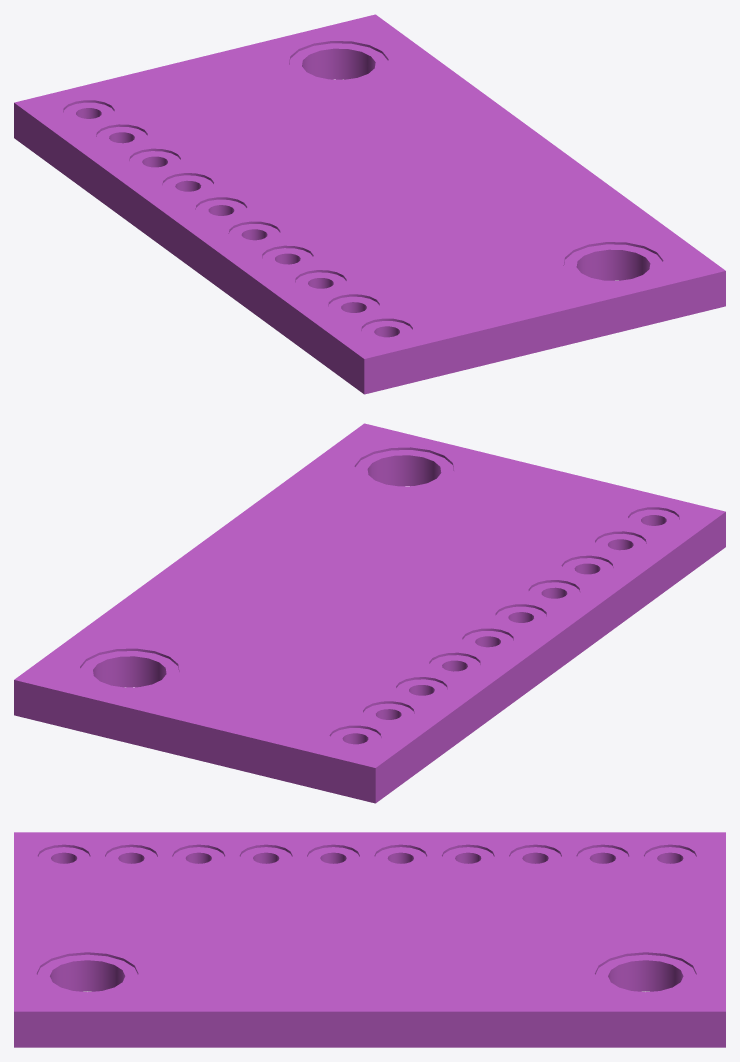
File: IMU_60.gltf
3 renders of one model, top to bottom at view 1: azimuth 30°, elevation 25°; view 2: azimuth 150°, elevation 25°; view 3: azimuth 270°, elevation 25°, orthographic.
Visible parts, largest first — view 1: mesh8132, mesh8080, mesh8081, mesh8084, mesh8119, mesh8120, mesh8085; view 2: mesh8132, mesh8078, mesh8081, mesh8084, mesh8119, mesh8120, mesh8085; view 3: mesh8132, mesh8079, mesh8084, mesh8119, mesh8120, mesh8085, mesh8095, mesh8134, mesh8115, mesh8130, mesh8074, mesh8090 (+4 smaller).
Boxes of the visible parts, x1=… form: mesh8132: x1=14, y1=14, x2=725, y2=358; mesh8080: x1=364, y1=271, x2=725, y2=394; mesh8081: x1=14, y1=103, x2=364, y2=393; mesh8084: x1=302, y1=48, x2=375, y2=79; mesh8119: x1=576, y1=249, x2=650, y2=280; mesh8120: x1=564, y1=244, x2=662, y2=283; mesh8085: x1=289, y1=43, x2=388, y2=82; mesh8132: x1=14, y1=423, x2=725, y2=767; mesh8078: x1=14, y1=680, x2=375, y2=803; mesh8081: x1=375, y1=512, x2=725, y2=802; mesh8084: x1=93, y1=656, x2=166, y2=687; mesh8119: x1=367, y1=455, x2=441, y2=486; mesh8120: x1=355, y1=450, x2=453, y2=489; mesh8085: x1=80, y1=651, x2=179, y2=690; mesh8132: x1=14, y1=832, x2=725, y2=1011; mesh8079: x1=14, y1=1011, x2=725, y2=1047; mesh8084: x1=608, y1=960, x2=683, y2=991; mesh8119: x1=50, y1=960, x2=125, y2=991; mesh8120: x1=37, y1=954, x2=137, y2=995; mesh8085: x1=595, y1=954, x2=695, y2=995; mesh8095: x1=105, y1=847, x2=157, y2=866; mesh8134: x1=307, y1=847, x2=359, y2=866; mesh8115: x1=644, y1=847, x2=695, y2=866; mesh8130: x1=510, y1=847, x2=561, y2=866; mesh8074: x1=375, y1=847, x2=426, y2=866; mesh8090: x1=38, y1=847, x2=89, y2=866.
Bounding box in the file's own units: 0.016 × 0.0015 × 0.0269.
